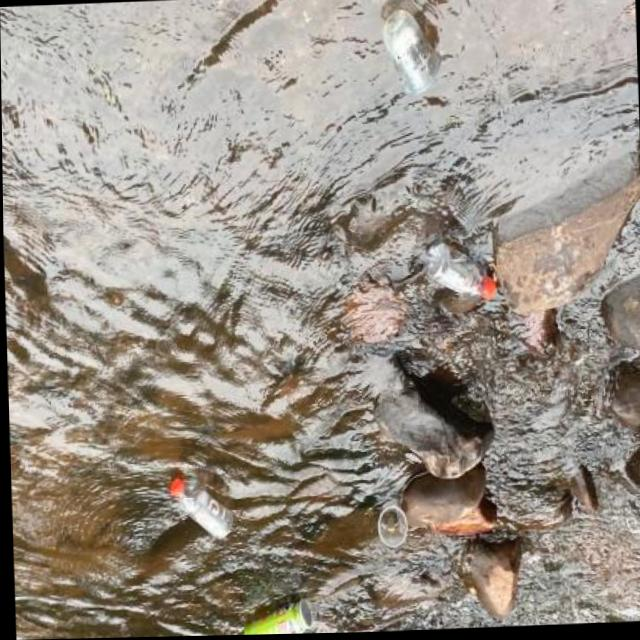Can-Metal: (234, 593, 313, 636)
Plastic: (377, 0, 446, 102), (413, 233, 501, 308), (159, 469, 236, 547), (370, 492, 409, 552)
